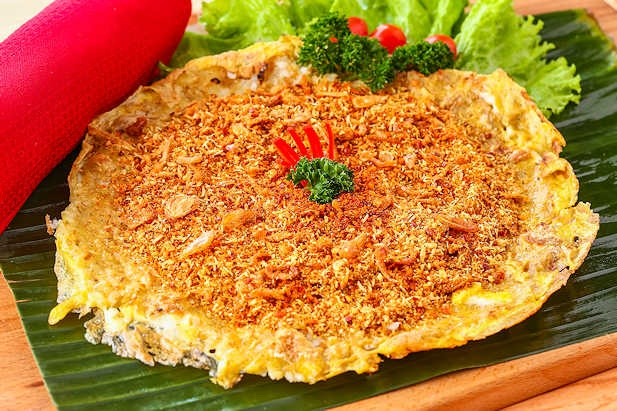kerak_telor: (69, 45, 593, 347)
